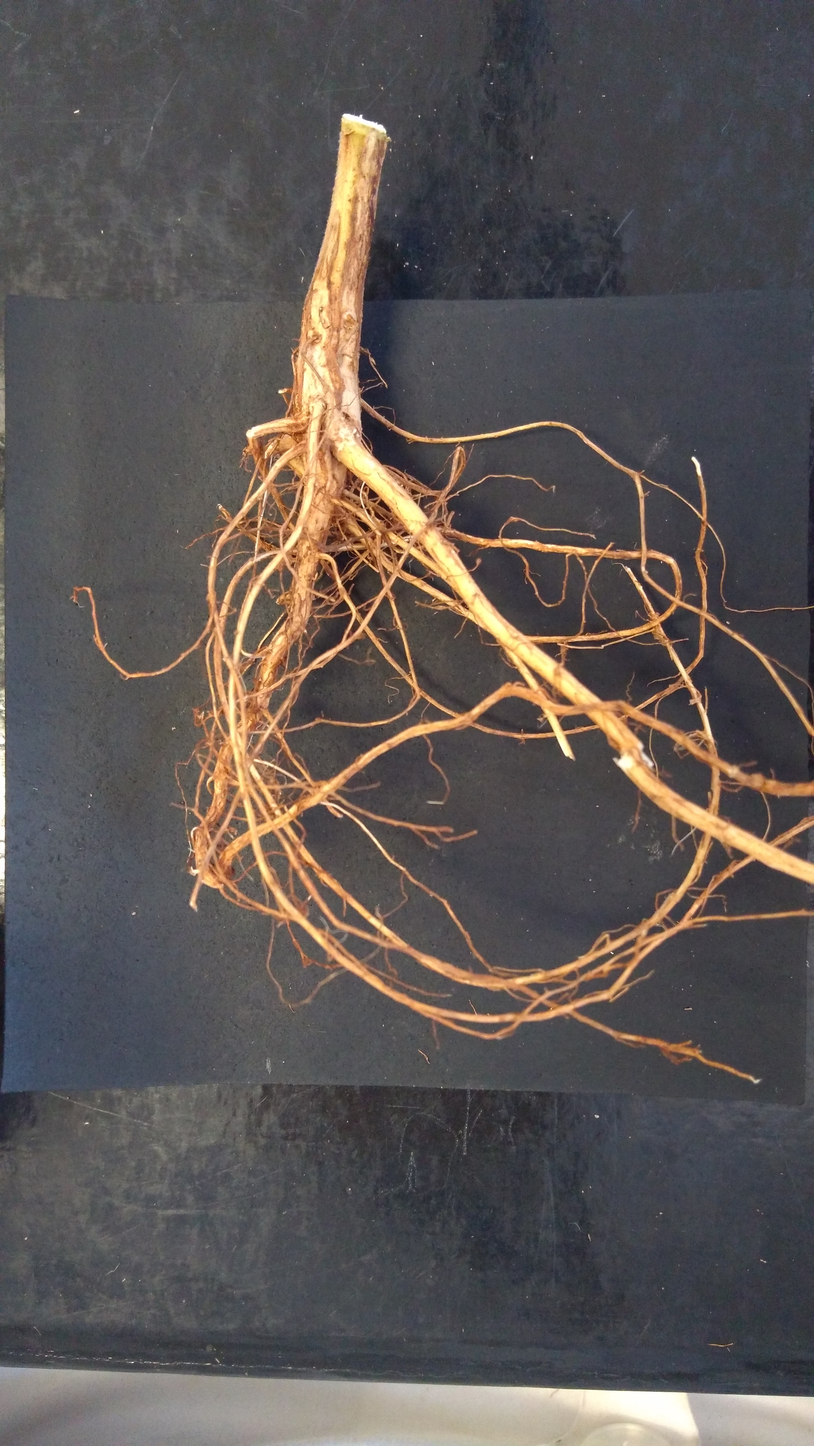nodule: (275, 591, 292, 605)
